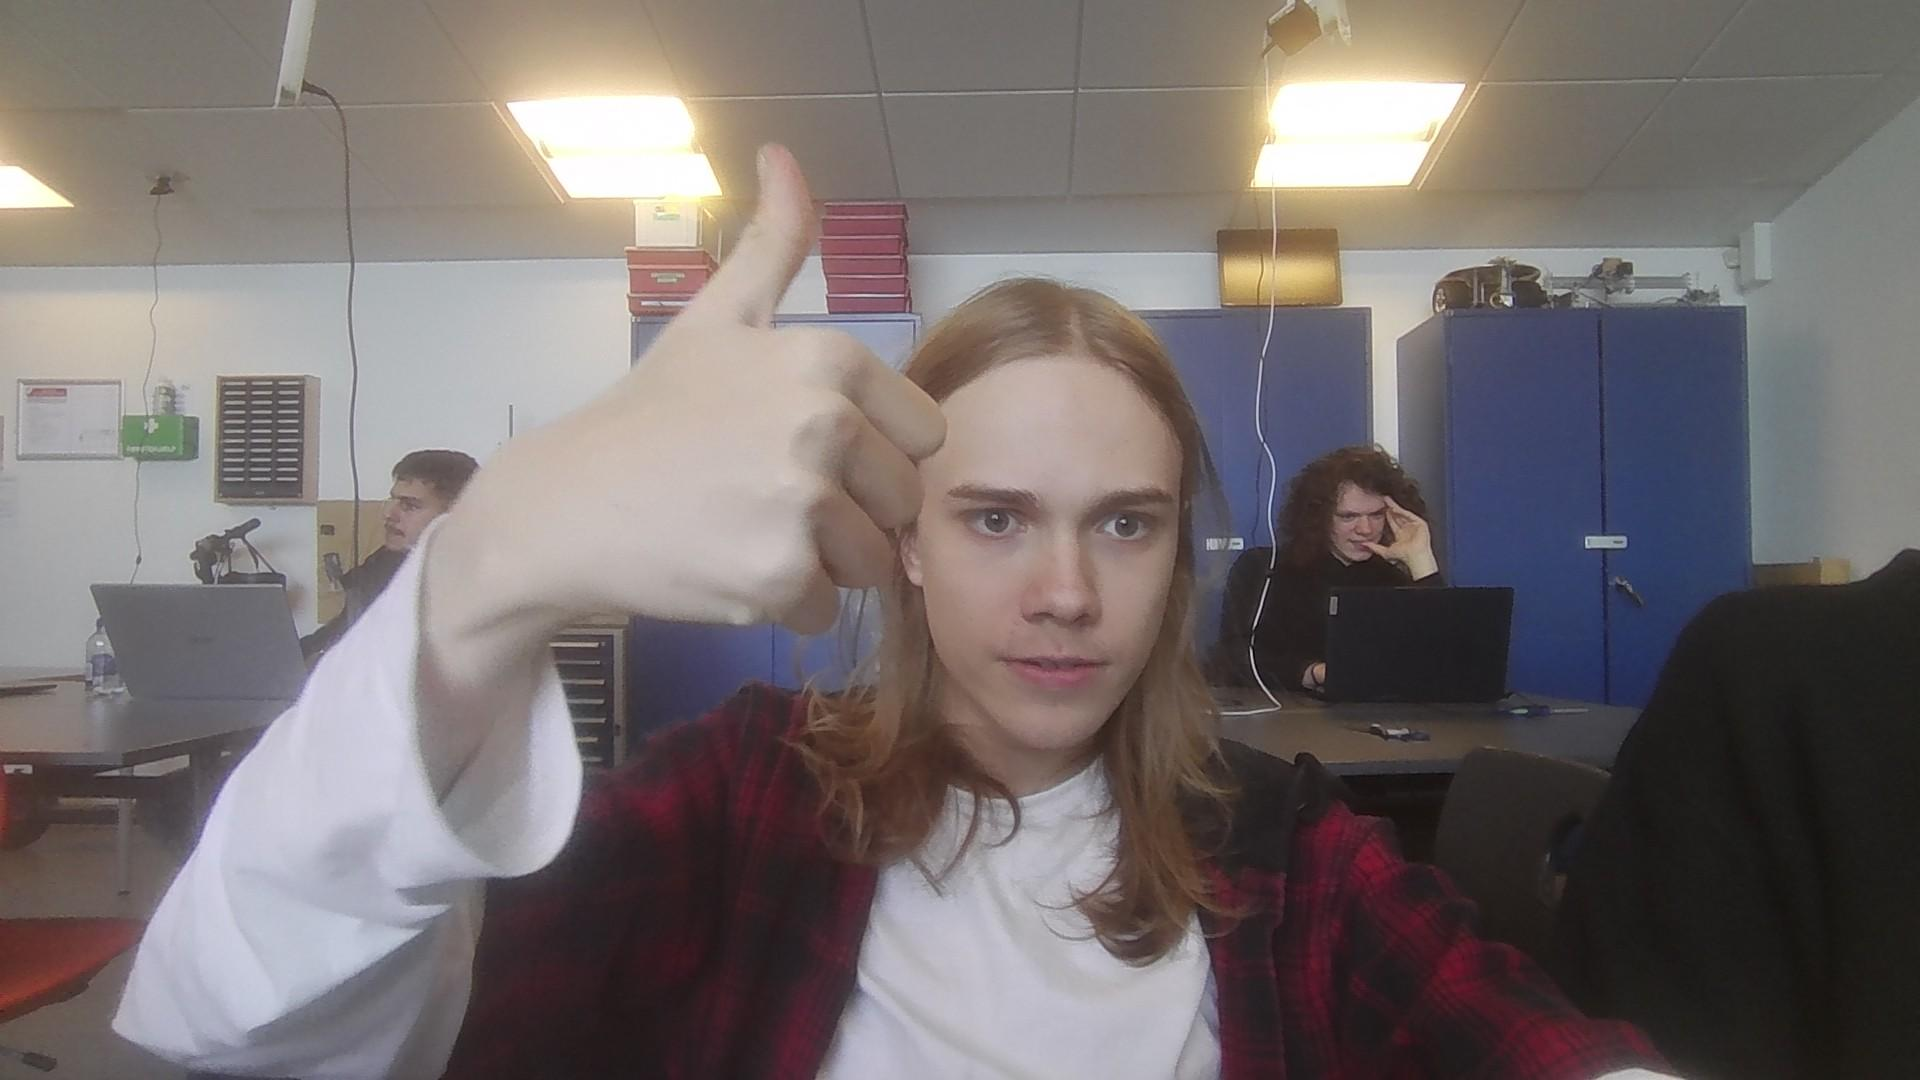thumbs up: (469, 136, 959, 646)
